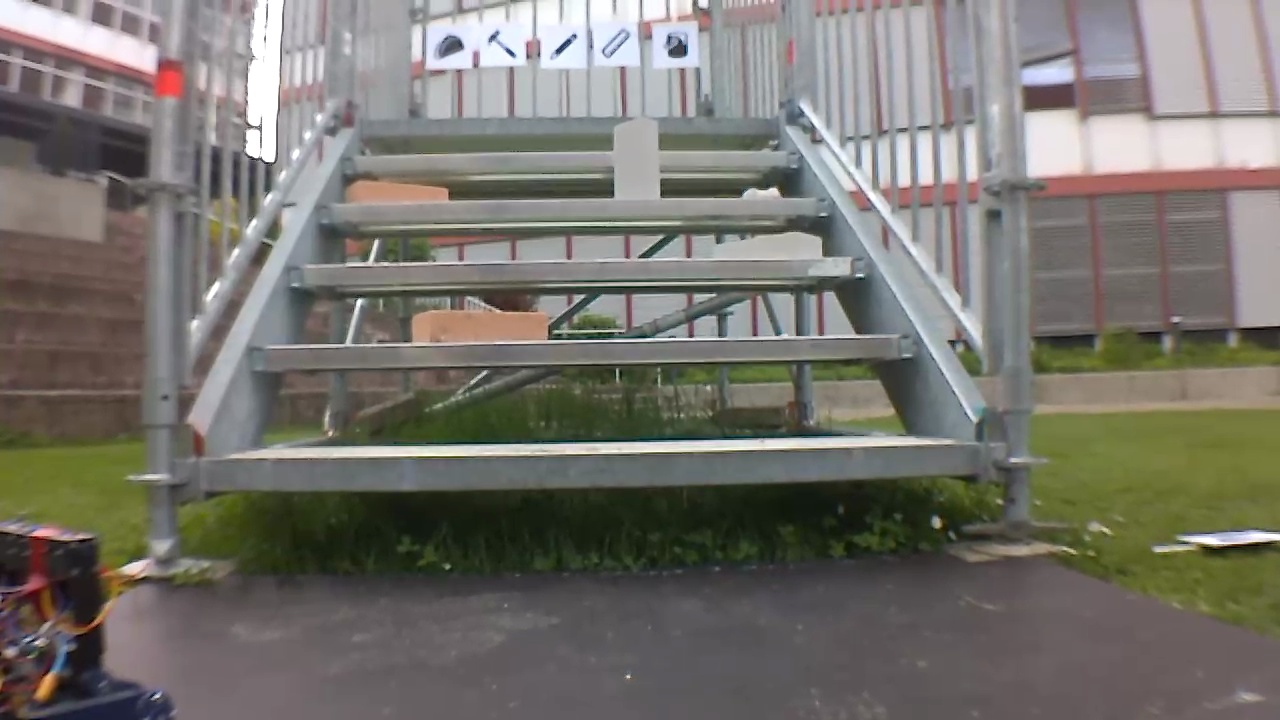brick: (411, 308, 549, 342), (614, 118, 659, 199), (719, 231, 822, 258), (346, 181, 446, 204)
bucket: (659, 26, 690, 60)
edge: (206, 444, 983, 490), (248, 336, 916, 366), (285, 258, 869, 282), (316, 197, 830, 216), (345, 151, 798, 167), (356, 117, 780, 134)
hammer: (483, 27, 521, 61)
pencil: (546, 27, 580, 64)
ruler: (599, 25, 634, 60)
stairs: (149, 4, 1041, 557)
steps: (195, 113, 988, 495)
taco: (430, 29, 465, 62)
